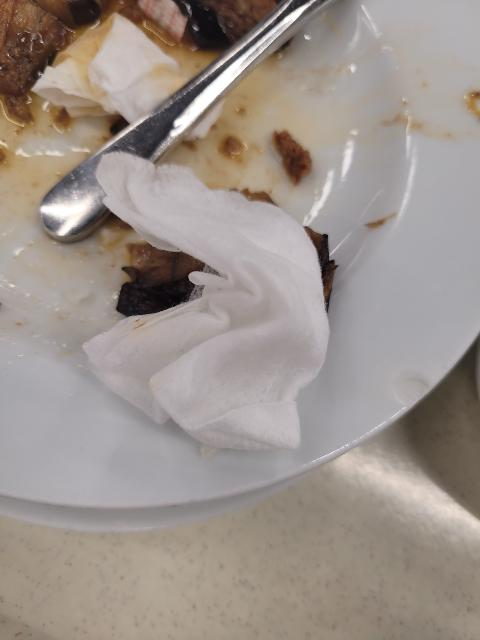Kagit: (89, 149, 340, 455)
